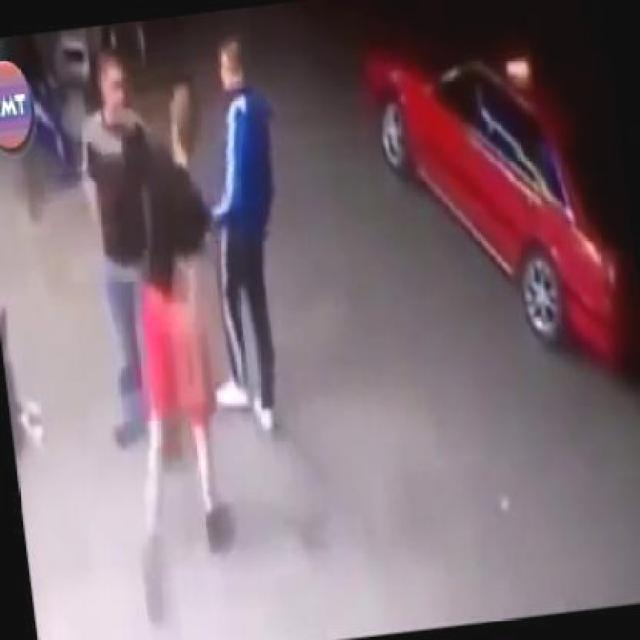fight: (70, 42, 253, 570)
